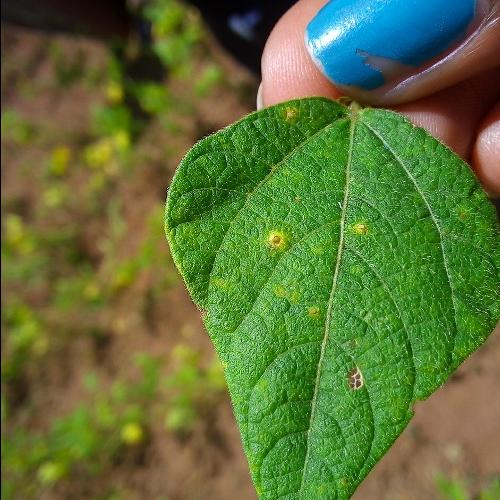hawar: (242, 198, 374, 328)
